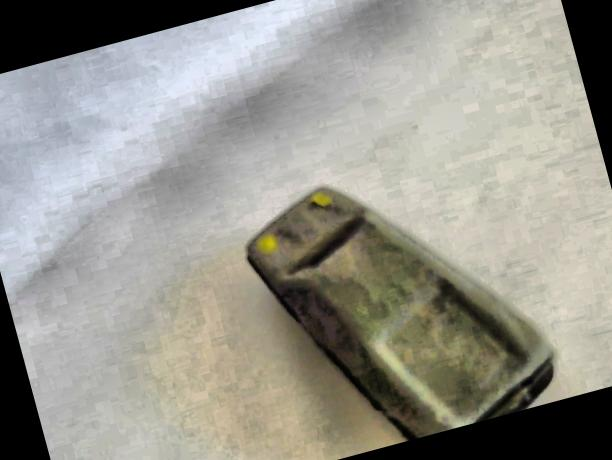normal_car: (219, 122, 575, 460)
